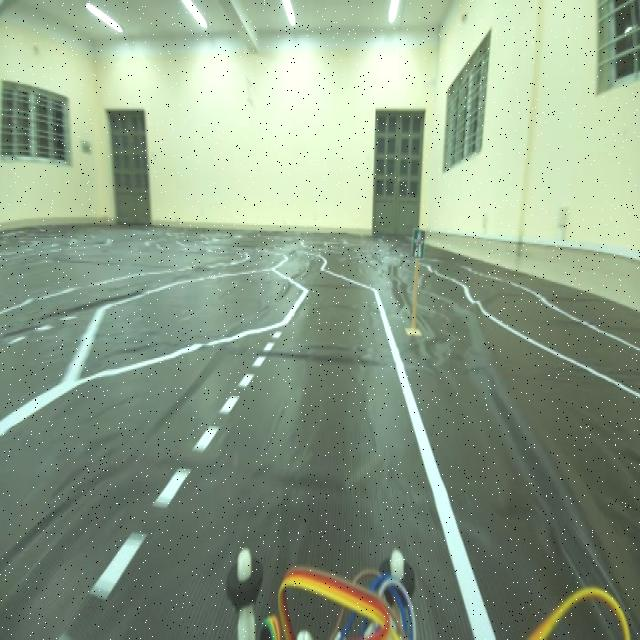highway_exit: (409, 216, 427, 264)
